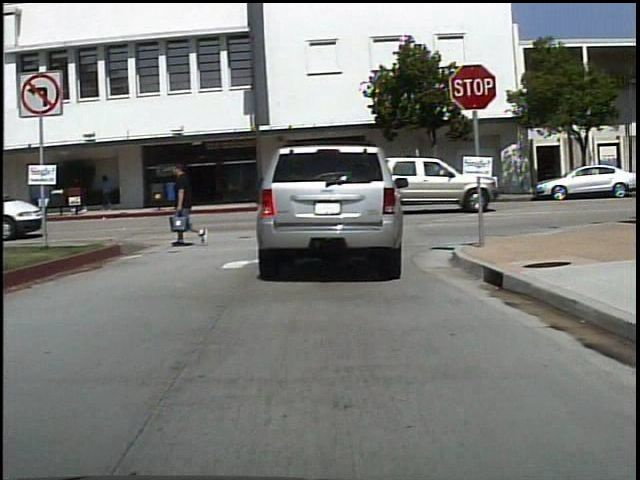person: (163, 159, 209, 250), (74, 171, 97, 216), (96, 173, 118, 212)
